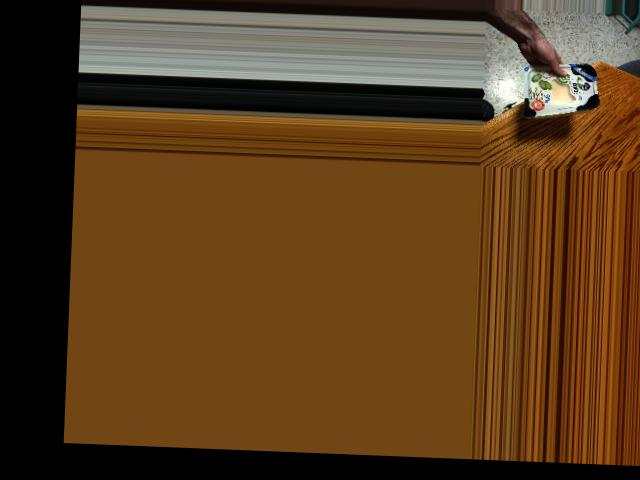cheese: (521, 53, 600, 119)
